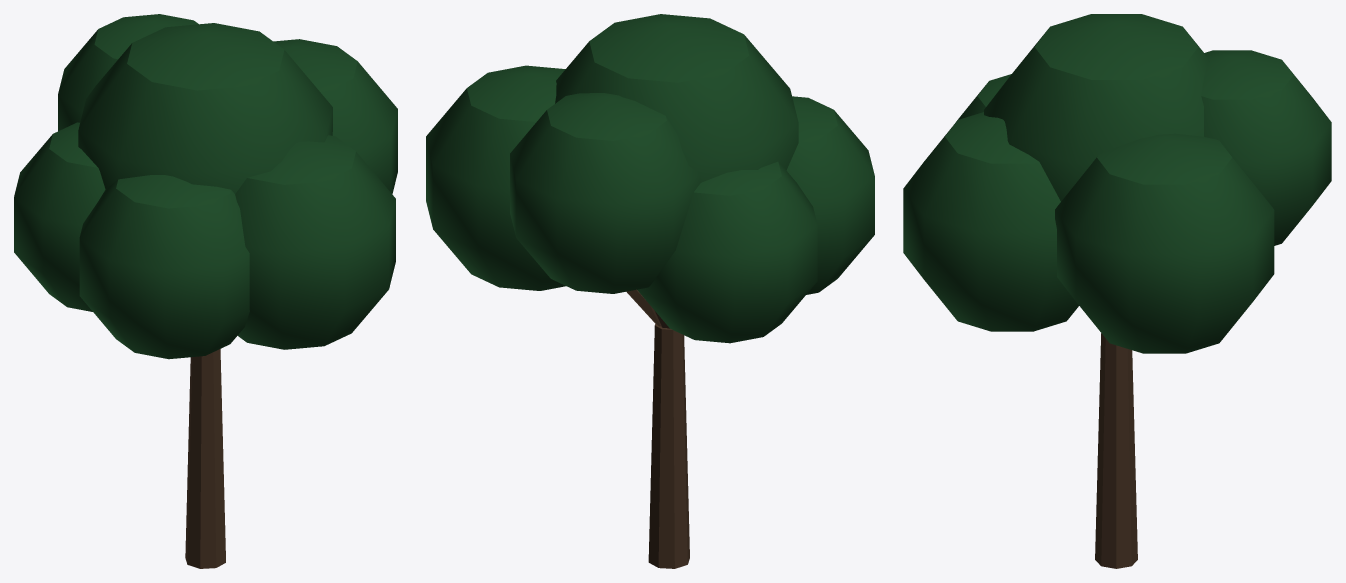
The model's file is landscape.tree.lime_large.glb.
3 views of the same model, side by side, from view 1: azimuth 30°, elevation 25°; view 2: azimuth 150°, elevation 25°; view 3: azimuth 270°, elevation 25° (orthographic).
Visible parts, largest first — view 1: main__foliage_dark, main__bark; view 2: main__foliage_dark, main__bark; view 3: main__foliage_dark, main__bark.
Part boxes in pixels (bbox=[...]): main__foliage_dark: bbox=[14, 14, 397, 359]; main__bark: bbox=[185, 349, 225, 568]; main__foliage_dark: bbox=[426, 14, 874, 343]; main__bark: bbox=[626, 289, 689, 568]; main__foliage_dark: bbox=[903, 14, 1331, 353]; main__bark: bbox=[1095, 333, 1137, 568].
Bounding box in the file's own units: 10.73 × 15.3 × 11.06.
